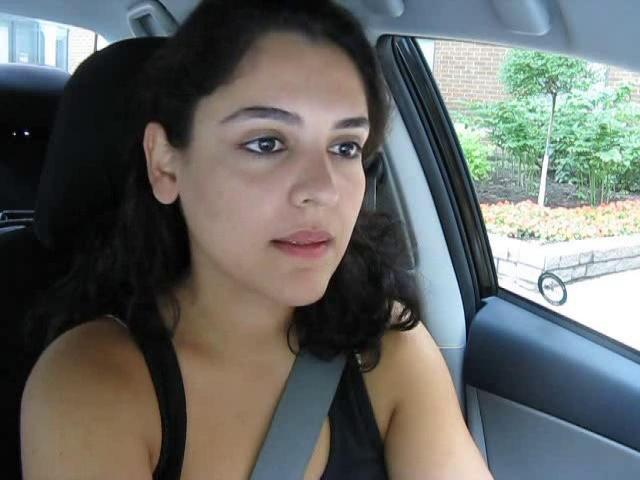eye_open: (236, 126, 290, 162), (323, 131, 365, 165)
face: (197, 86, 370, 310)
